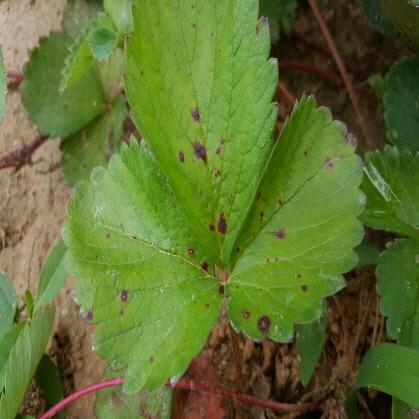Leaf Spot: (59, 131, 223, 395), (121, 0, 279, 272), (221, 89, 367, 344), (17, 29, 107, 141), (59, 92, 128, 188)
